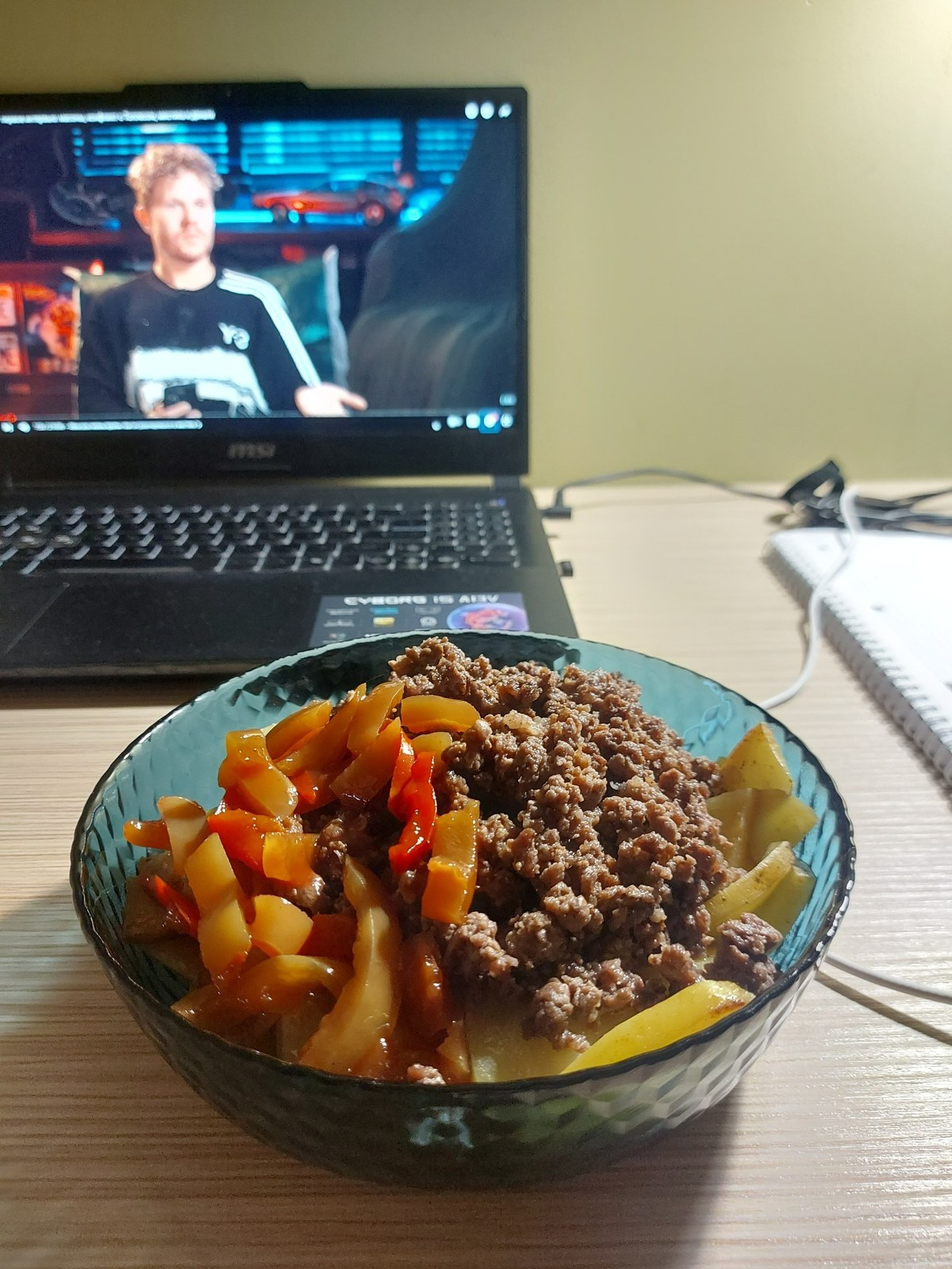cell phone: (163, 382, 200, 409)
laptop: (1, 81, 580, 679)
